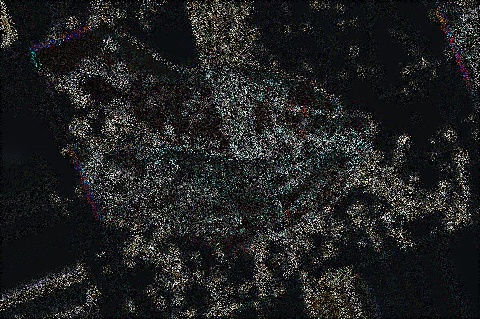washing hand: (94, 0, 445, 293)
